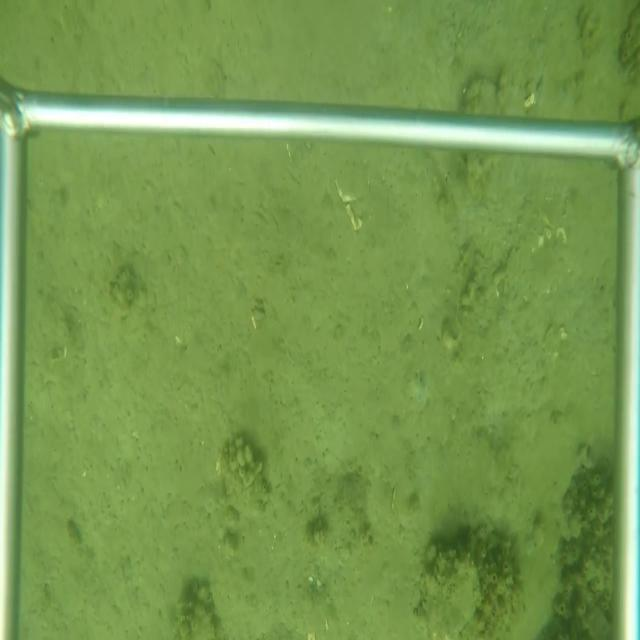Oyster-Indeterminate: (418, 549, 484, 631)
